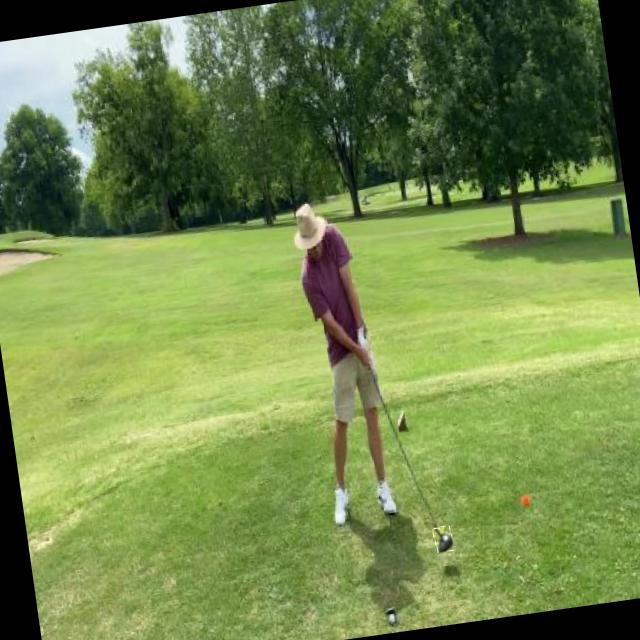club head: (432, 526, 453, 553)
